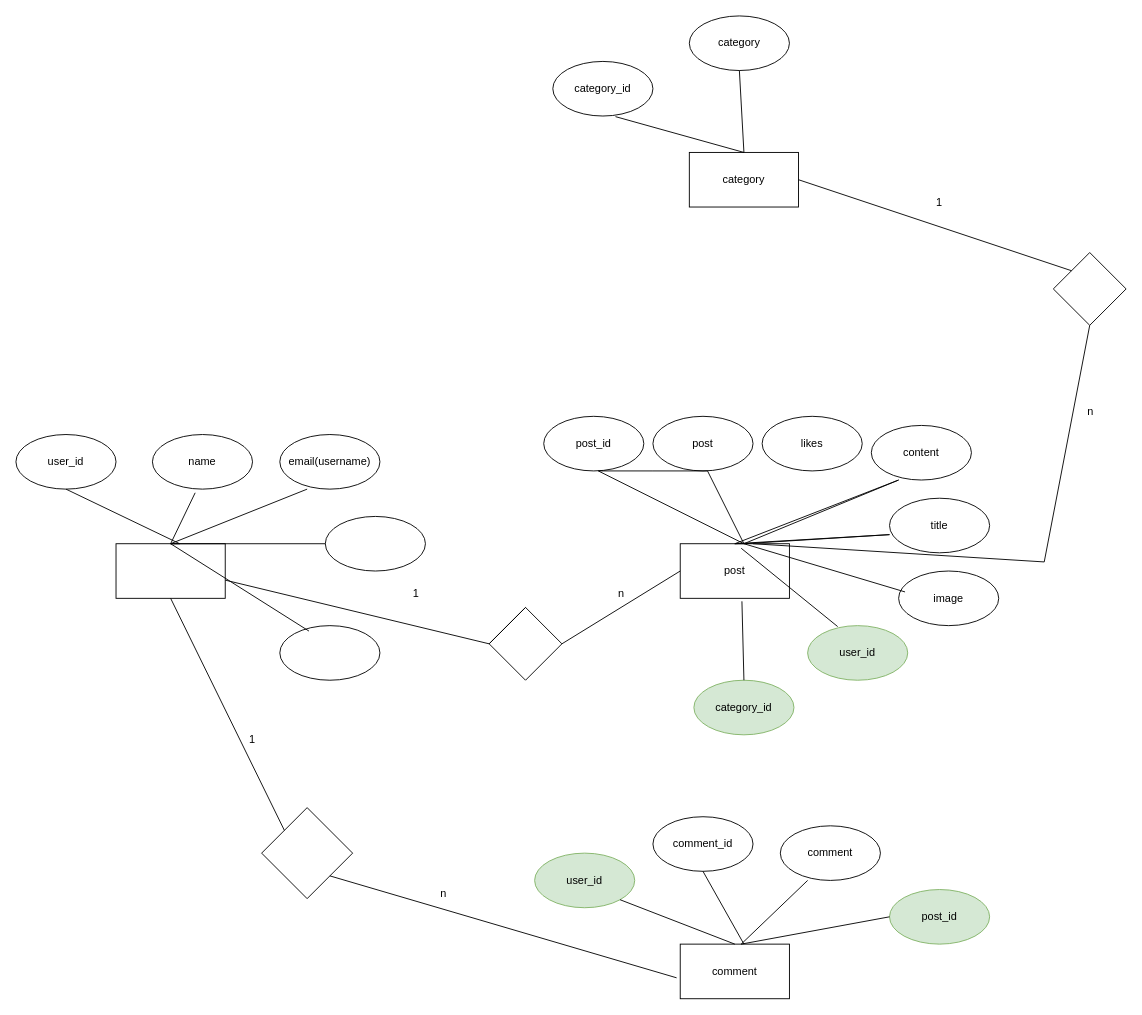
Image size: 1142x1015. Some labels were removed from this diagram. Each missing label, with the centre of its shape:
"about" belongs at (x=329, y=652).
"can have" belongs at (x=525, y=643).
"ccontains" belongs at (x=1089, y=288).
"has" belongs at (x=307, y=853).
"password" belongs at (x=374, y=543).
"user" belongs at (x=170, y=570).
